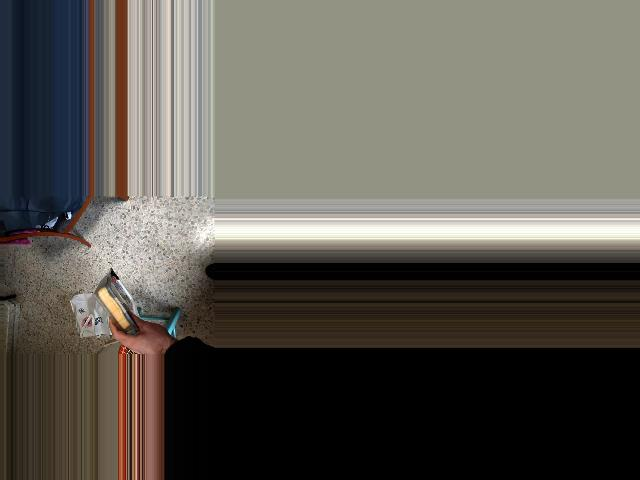cheese: (93, 268, 145, 350)
